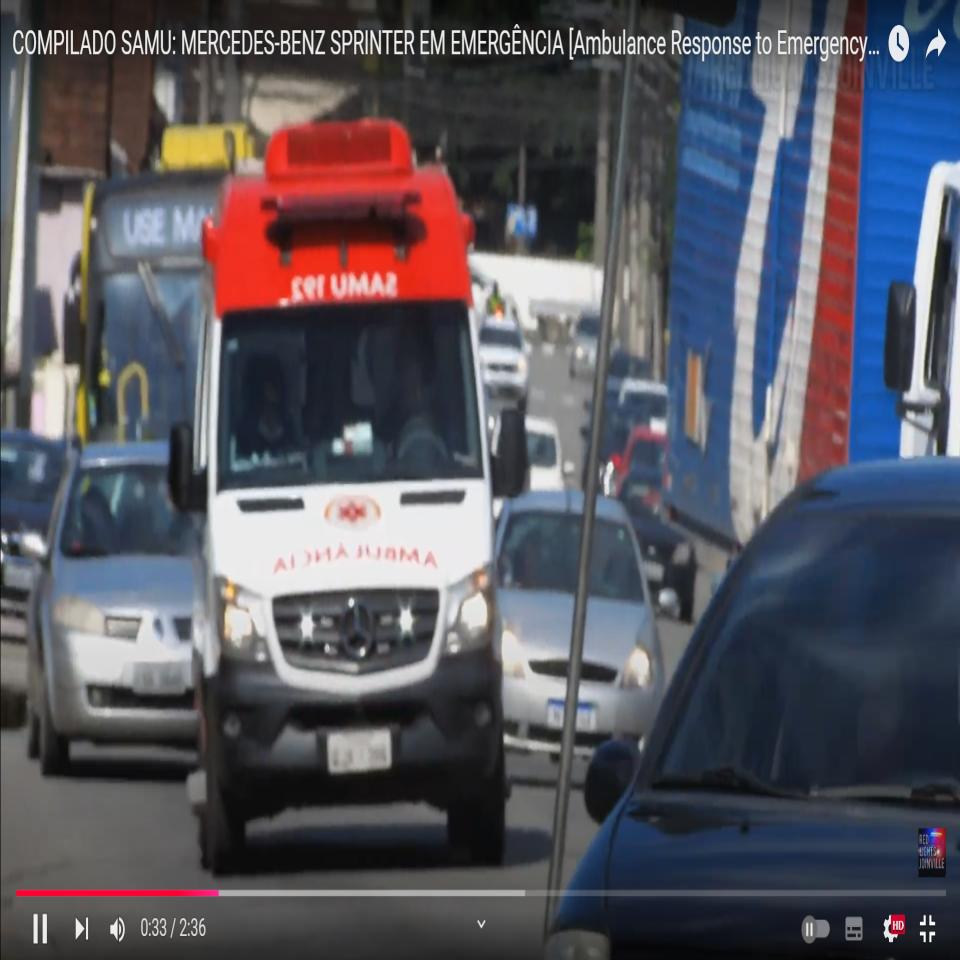bombeiro: (180, 115, 533, 868)
